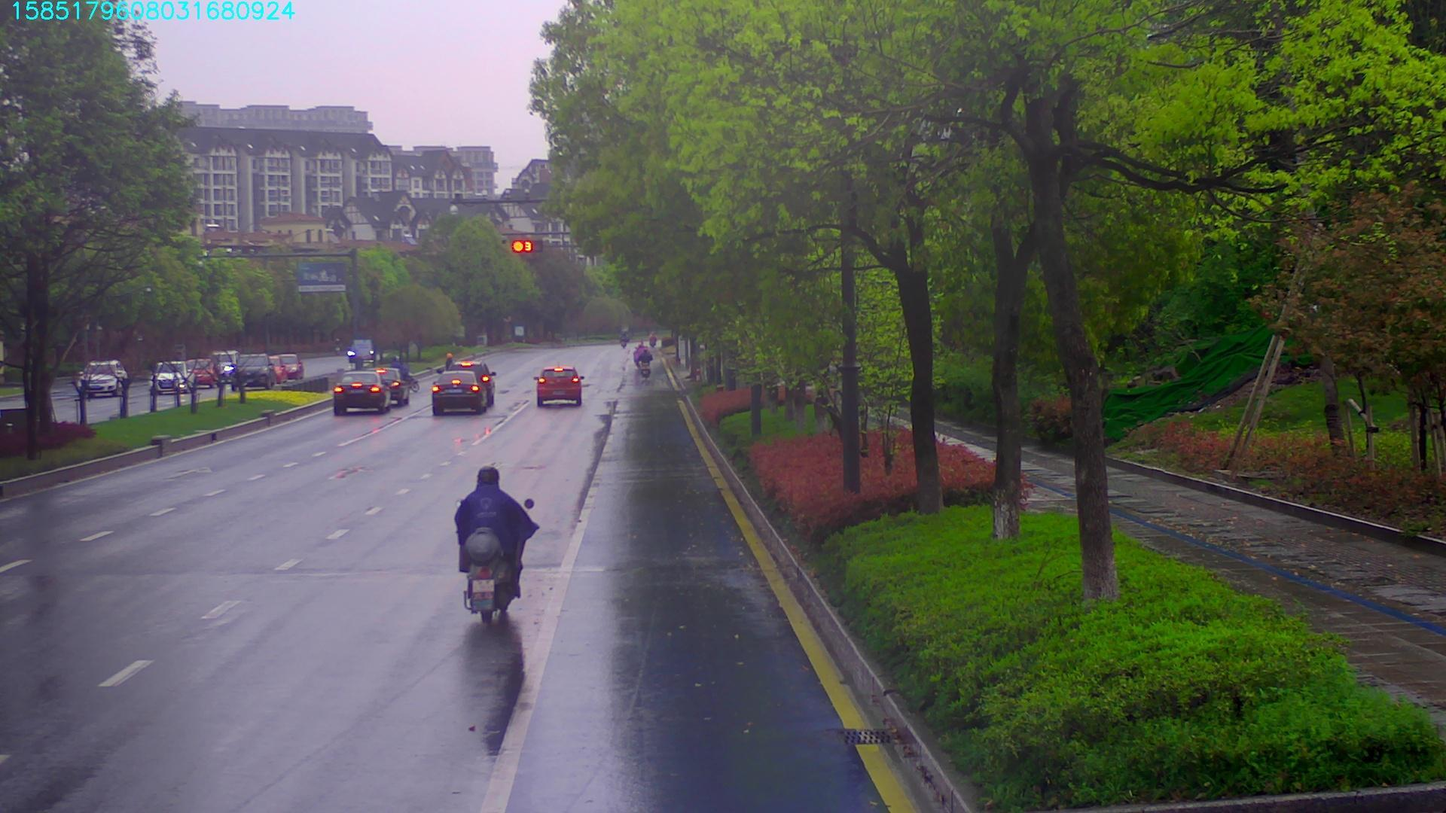red: (508, 236, 543, 254)
